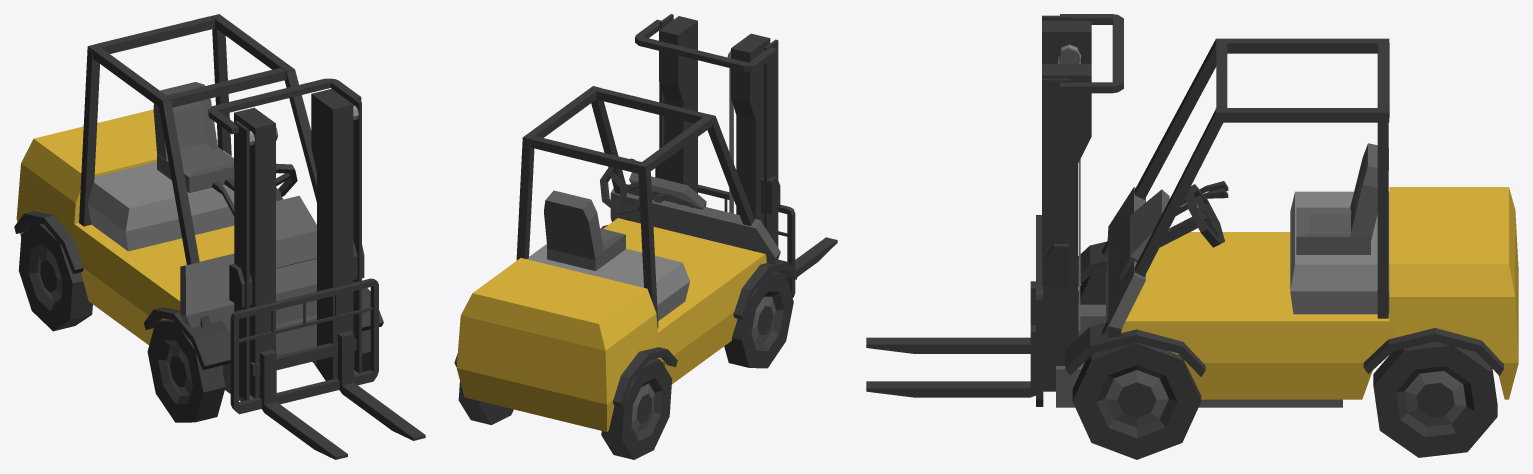
The model's file is reach_truck.glb.
The picture shows the model from 3 angles, left to right: view 1: azimuth 30°, elevation 25°; view 2: azimuth 150°, elevation 25°; view 3: azimuth 270°, elevation 25°; orthographic projection. The views are drawn at different scales.
Parts seen in each view (by area): view 1: Forklift_Body, Mast, Forks_and_Backrest; view 2: Forklift_Body, Mast, Forks_and_Backrest; view 3: Forklift_Body, Mast, Forks_and_Backrest.
Boxes of the visible parts, left/top/right/bottom form: Forklift_Body: left=14, top=14, right=383, bottom=422; Mast: left=208, top=78, right=364, bottom=401; Forks_and_Backrest: left=230, top=278, right=425, bottom=459; Forklift_Body: left=454, top=86, right=798, bottom=459; Mast: left=635, top=14, right=780, bottom=247; Forks_and_Backrest: left=697, top=184, right=837, bottom=297; Forklift_Body: left=1065, top=38, right=1518, bottom=459; Mast: left=1042, top=14, right=1342, bottom=407; Forks_and_Backrest: left=866, top=215, right=1043, bottom=406.
Size of the model in its own units: 0.8461 by 1.42 by 2.32.
